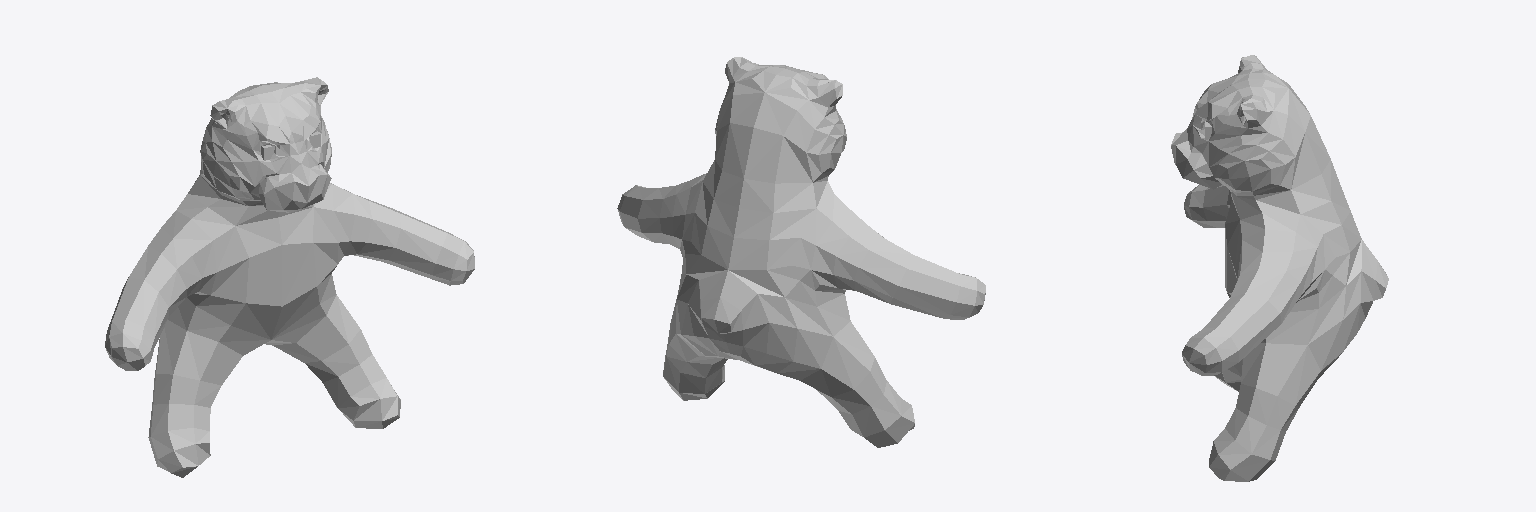
File: teddy.obj
3 renders of one model, left to right at view 1: azimuth 30°, elevation 25°; view 2: azimuth 150°, elevation 25°; view 3: azimuth 270°, elevation 25°, orthographic.
Bounding box in the file's own units: 2.37 × 2.22 × 1.24.